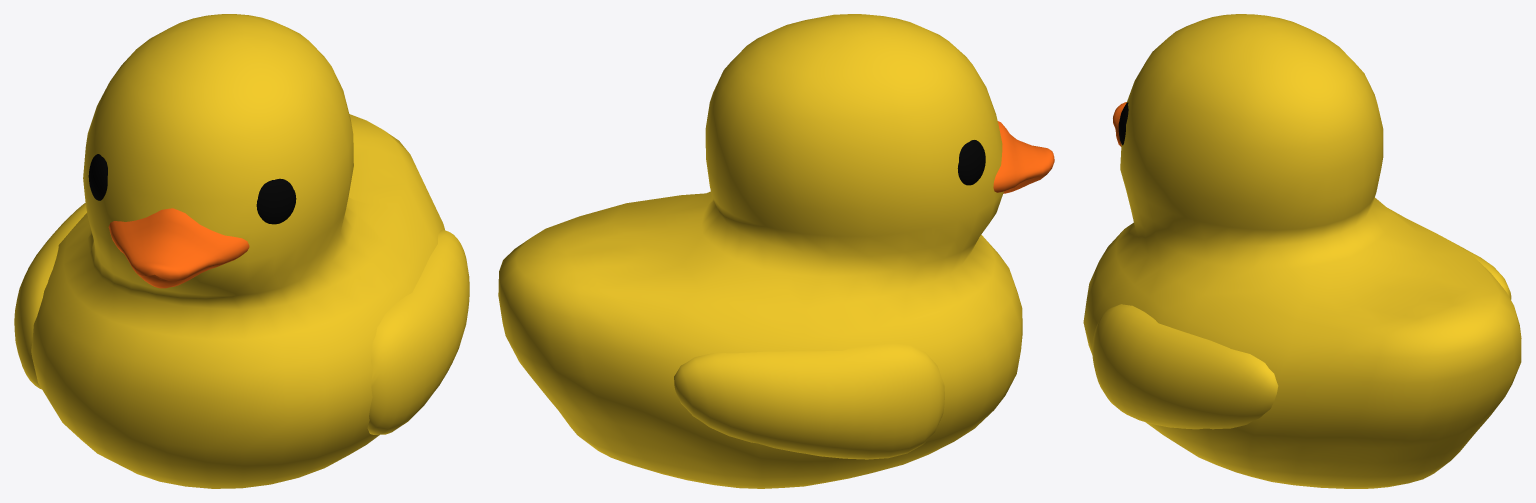
File: duck.gltf
3 views of the same model, side by side, from view 1: azimuth 30°, elevation 25°; view 2: azimuth 150°, elevation 25°; view 3: azimuth 270°, elevation 25° (orthographic). The views are drawn at different scales.
Visible parts, largest first — view 1: duck; view 2: duck; view 3: duck.
Part boxes in pixels (bbox=[...]): duck: bbox=[14, 14, 469, 488]; duck: bbox=[498, 14, 1054, 488]; duck: bbox=[1083, 14, 1521, 488].
Size of the model in its own units: 0.3975 by 0.3953 by 0.3852.
Materials: 1 (1 with a texture image).
